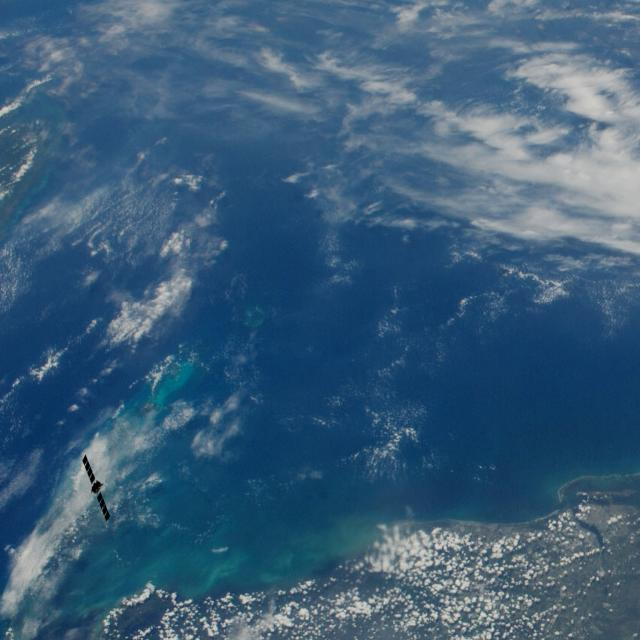satellite: (71, 450, 126, 528)
